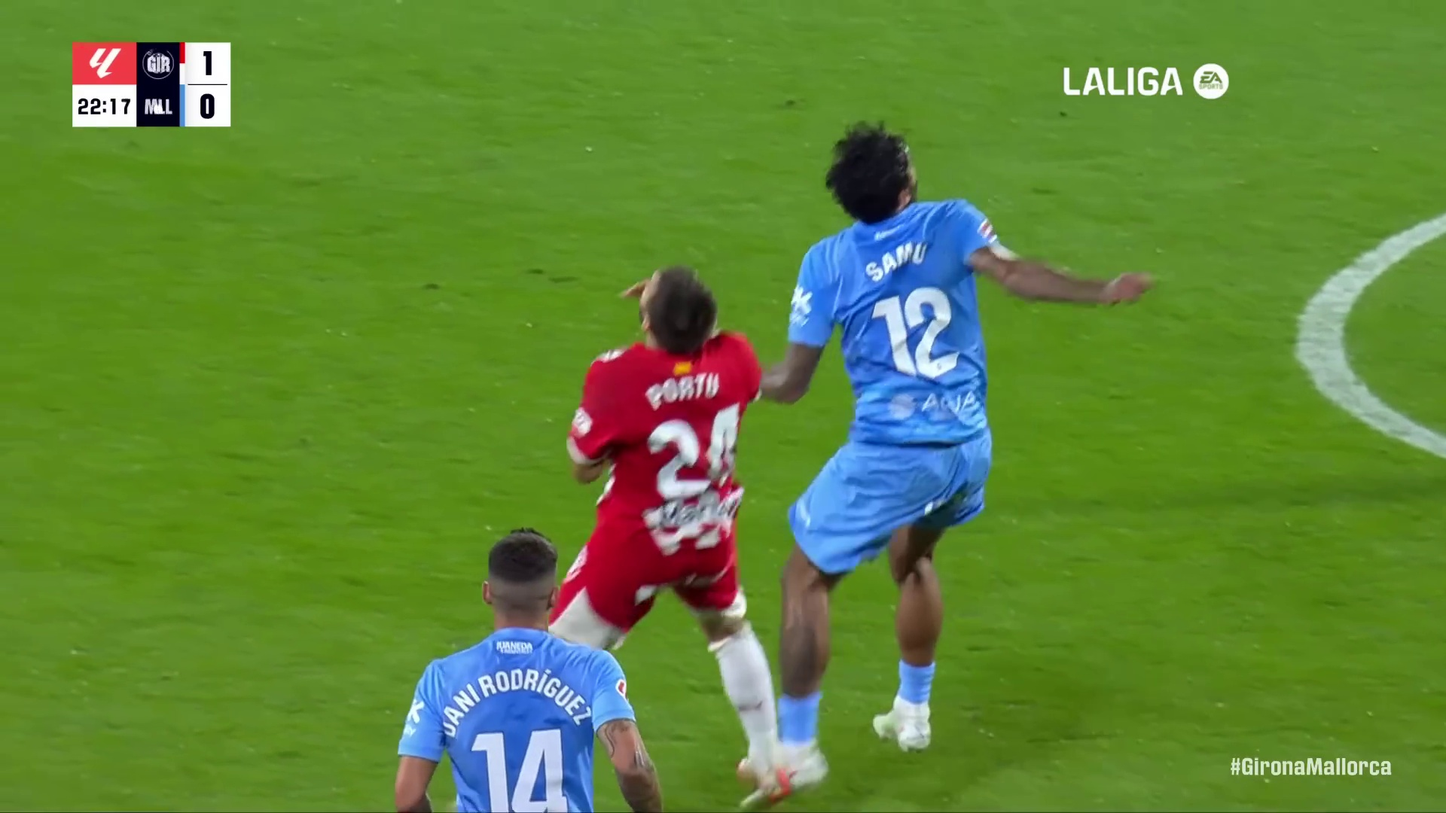player: (737, 119, 1157, 783), (554, 266, 795, 801), (372, 527, 667, 813)
